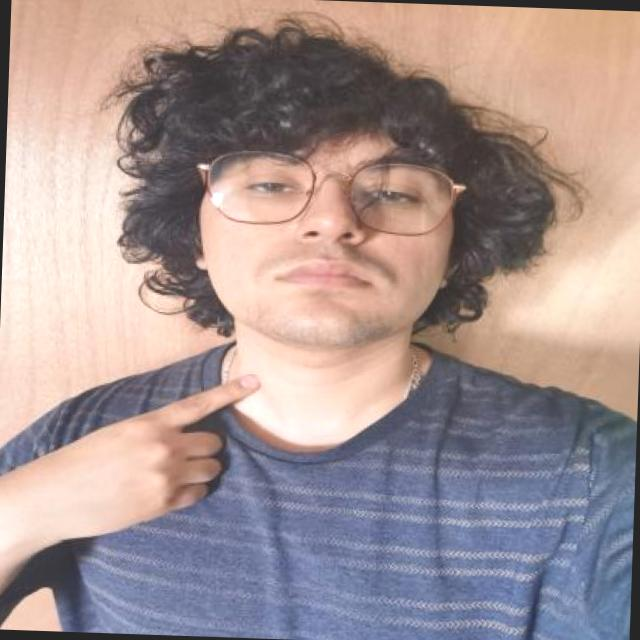Q: (54, 362, 267, 548)
